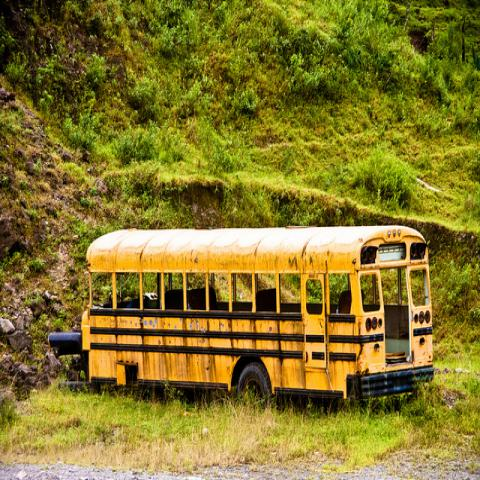bus: (47, 222, 433, 416)
